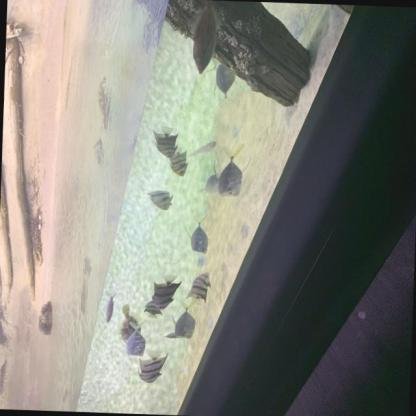fish: (186, 0, 224, 77), (211, 139, 252, 199), (184, 210, 216, 255), (136, 346, 170, 386), (170, 298, 200, 342), (151, 272, 182, 312), (213, 60, 241, 104), (123, 318, 151, 358), (151, 124, 181, 160), (185, 269, 212, 308), (117, 302, 142, 344), (166, 144, 190, 178), (144, 186, 174, 213), (198, 170, 224, 198), (187, 138, 217, 162), (202, 43, 223, 76), (104, 289, 118, 324), (142, 298, 164, 320), (162, 331, 188, 342)
